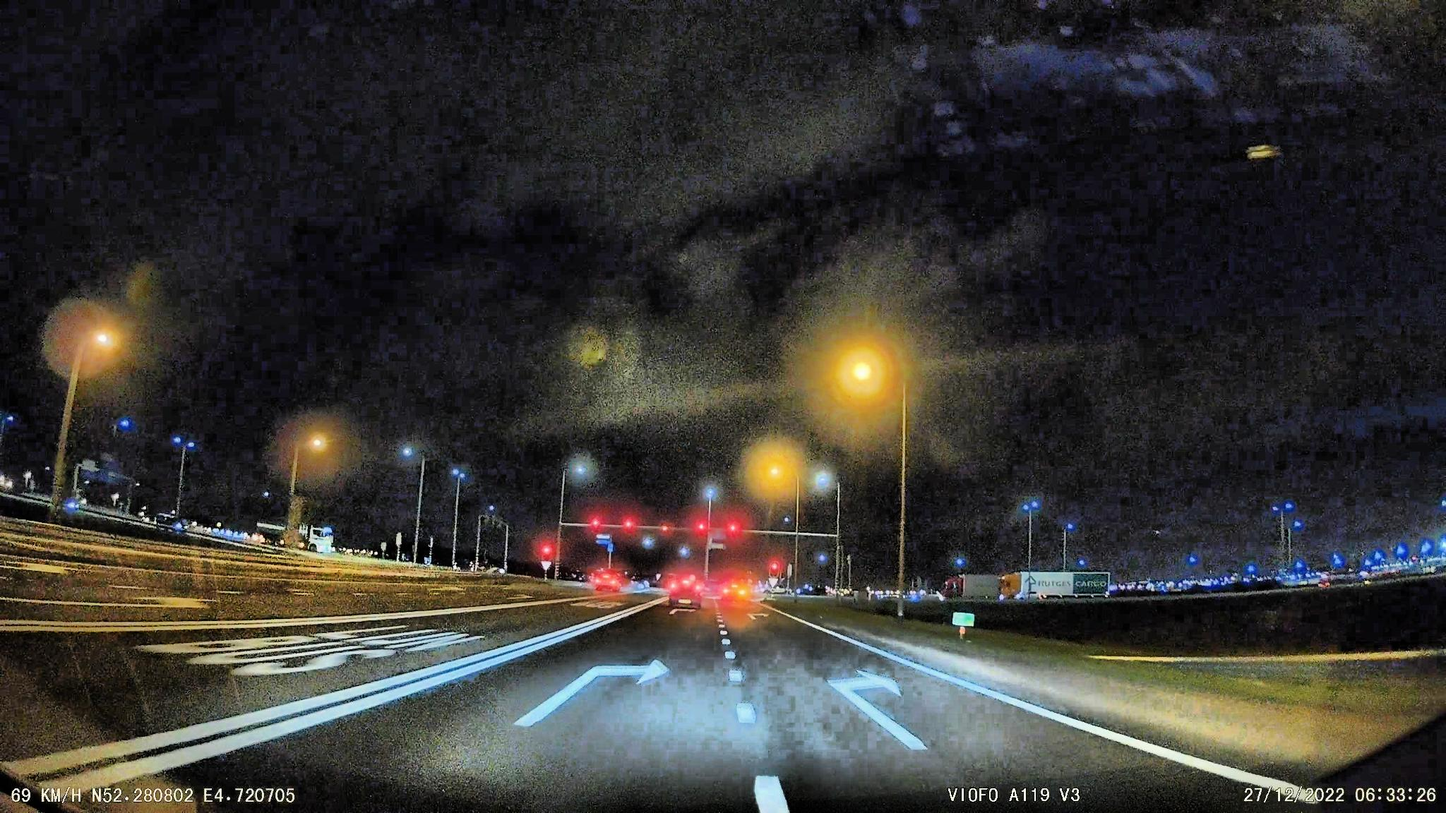Roads: (0, 574, 1278, 813)
